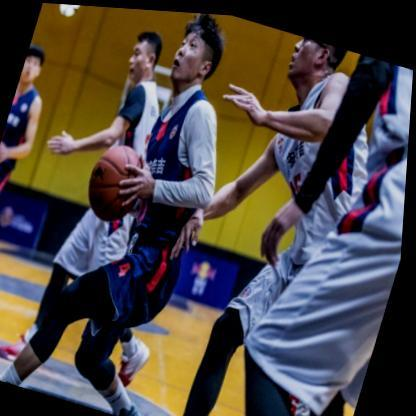basketball: (82, 136, 155, 226)
